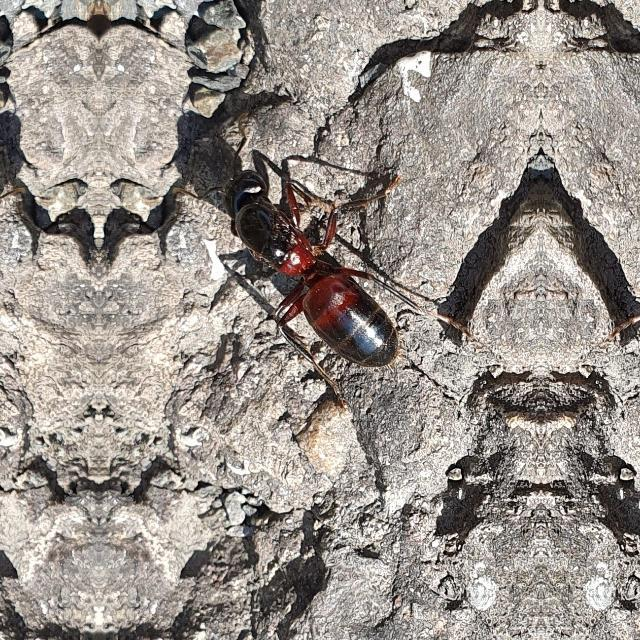Camponotus: (198, 136, 420, 414)
